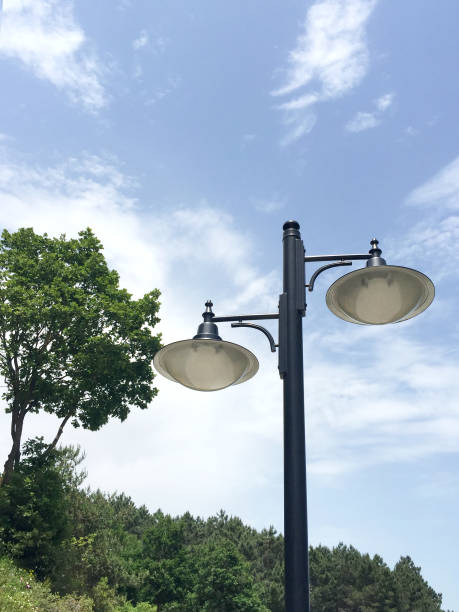light_pole: (280, 230, 312, 610)
